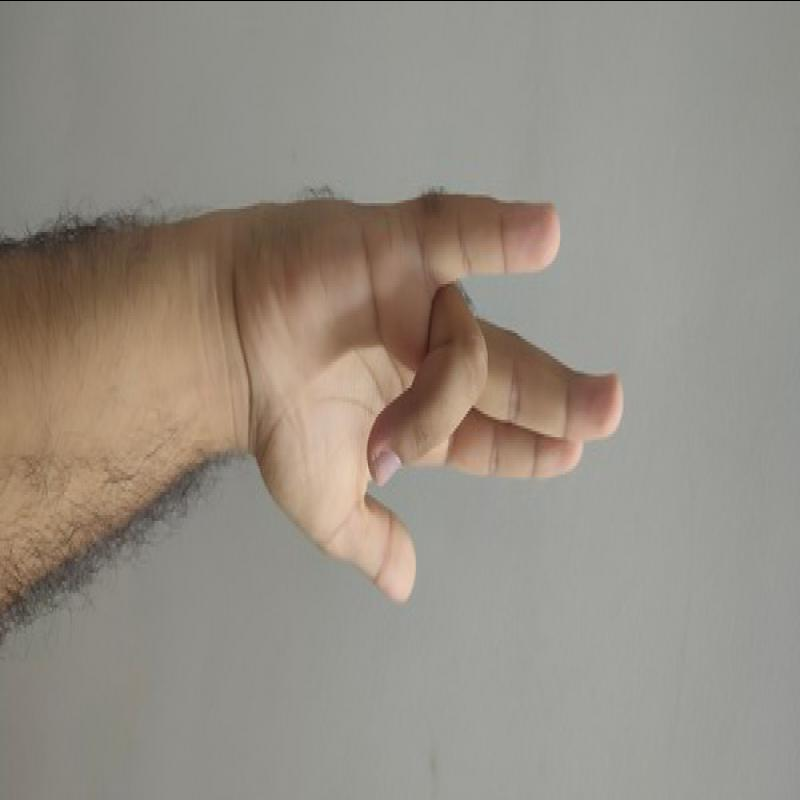Pathaaka: (222, 152, 629, 613)
